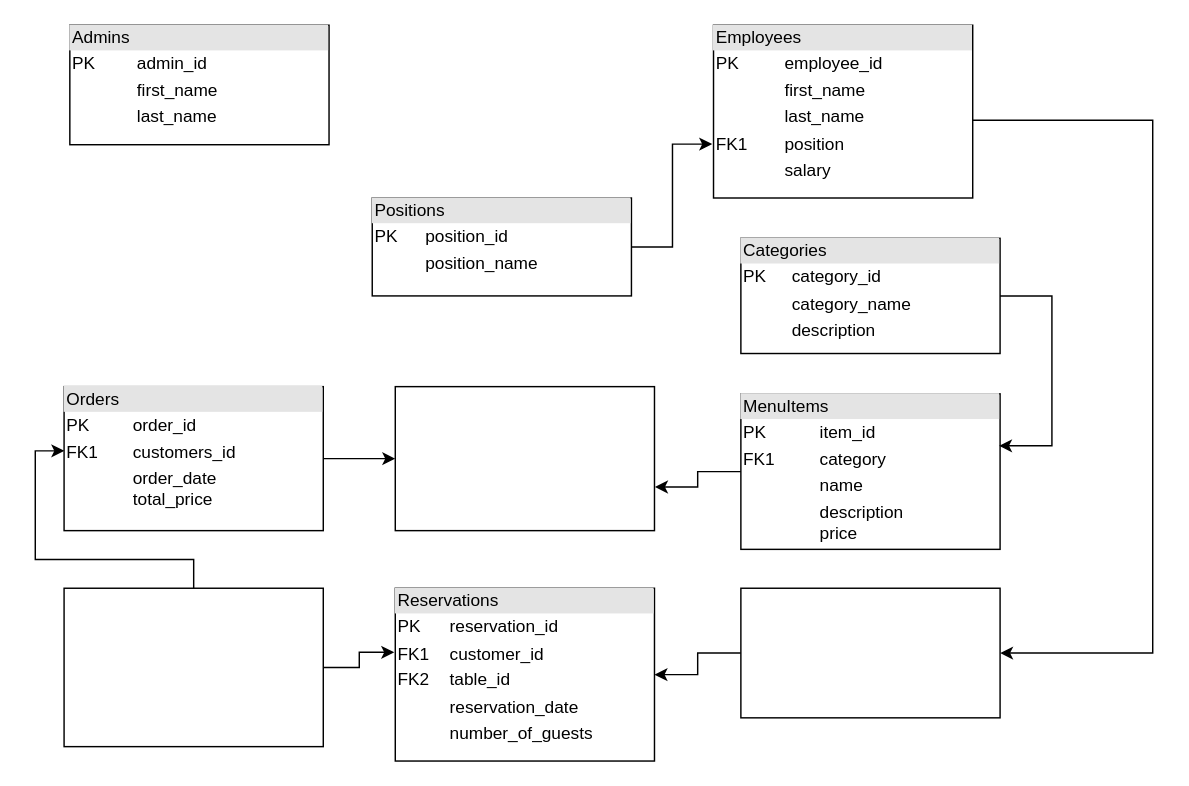
This 1189x786 diagram has some shape labels left out. The centre of each missing label's shape, as x and y in pixels:
Customers PK customer_id first_name last_name phone: pixel 193 667
OrderItems PK order_item_id FK1 order_id FK2 item_id quantity: pixel 524 458
Tables PK table_id FK employee_id table_number status: pixel 869 652
